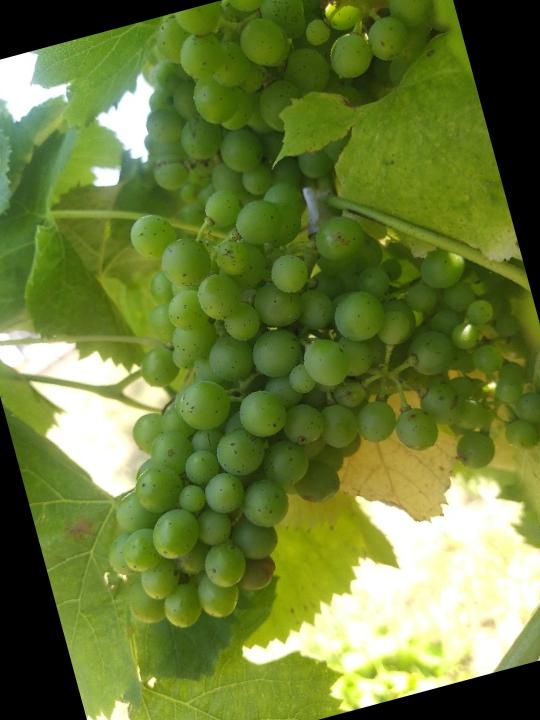grape: (18, 121, 540, 647)
